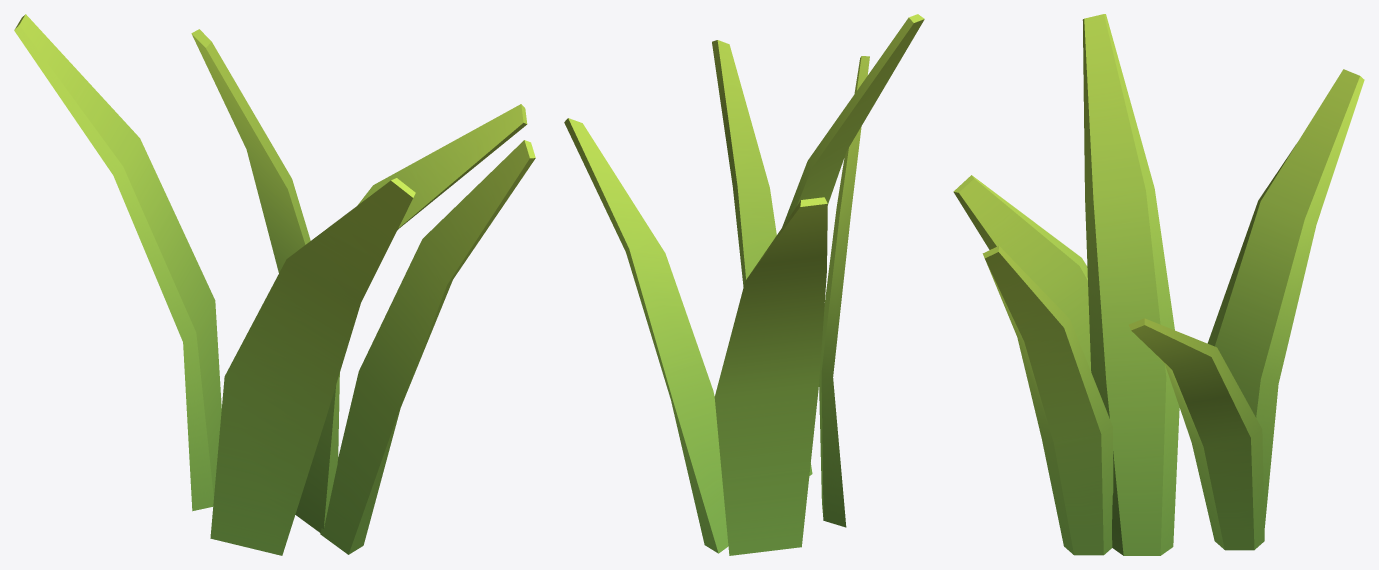
File: Grass4.FBX
The picture shows the model from 3 angles, left to right: view 1: azimuth 30°, elevation 25°; view 2: azimuth 150°, elevation 25°; view 3: azimuth 270°, elevation 25°; orthographic projection. The views are drawn at different scales.
Visible parts, largest first — view 1: Grass4; view 2: Grass4; view 3: Grass4.
Boxes of the visible parts, x1,y1,x2,y2 form: Grass4: [14, 14, 535, 555]; Grass4: [564, 14, 924, 555]; Grass4: [953, 14, 1364, 555].
Size of the model in its own units: 25.15 by 32.67 by 25.45.
